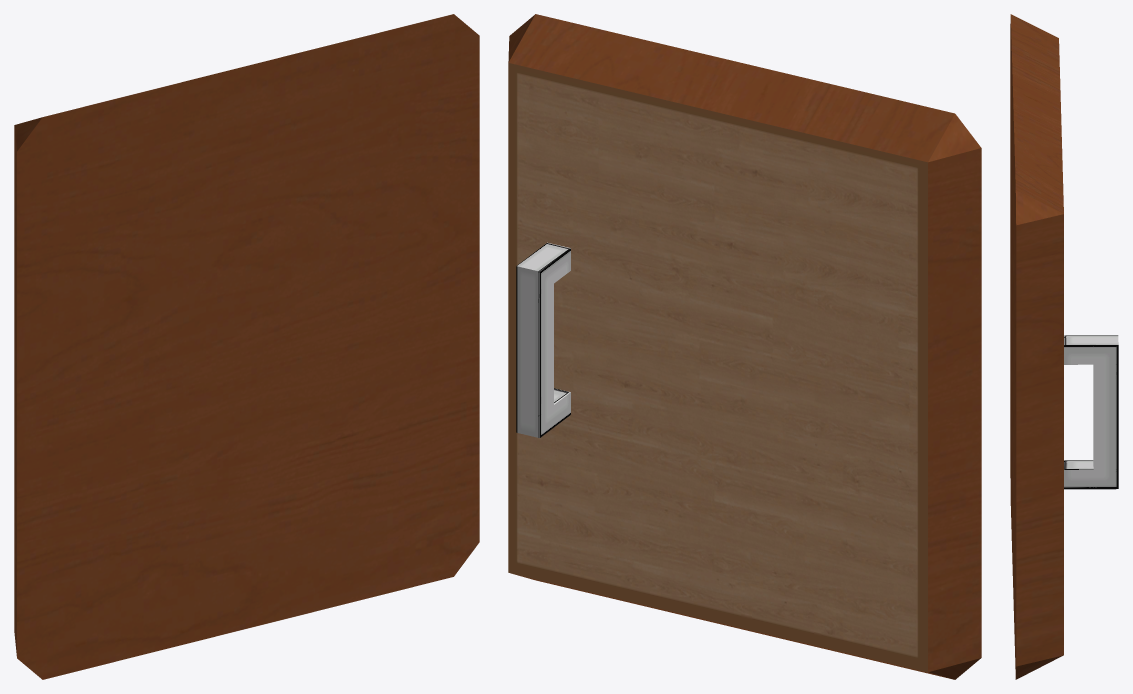
File: Cupboard_Open_Door_Right.fbx
3 renders of one model, left to right at view 1: azimuth 30°, elevation 25°; view 2: azimuth 150°, elevation 25°; view 3: azimuth 270°, elevation 25°, orthographic. The views are drawn at different scales.
Visible parts, largest first — view 1: door3; view 2: door3; view 3: door3.
Part boxes in pixels (<box>): door3: <box>14,14,479,679</box>; door3: <box>508,14,981,679</box>; door3: <box>1010,14,1118,679</box>.
Size of the model in its own units: 62.32 by 71.94 by 14.4.
